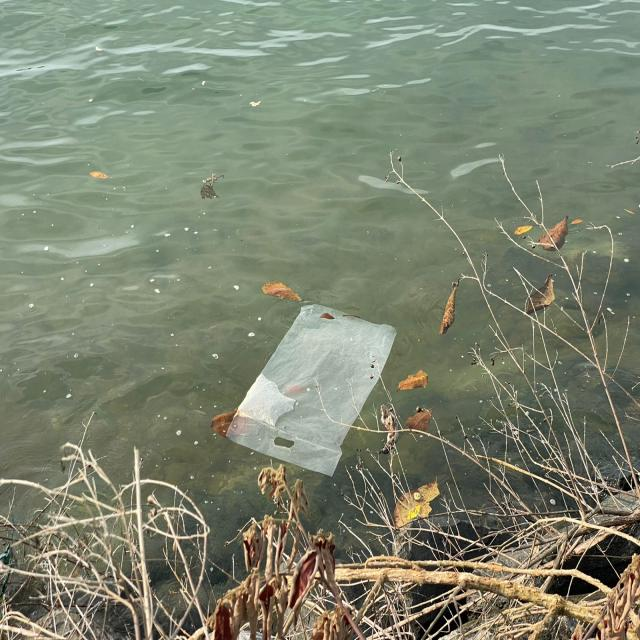Kantong Plastik: (222, 303, 404, 485)
